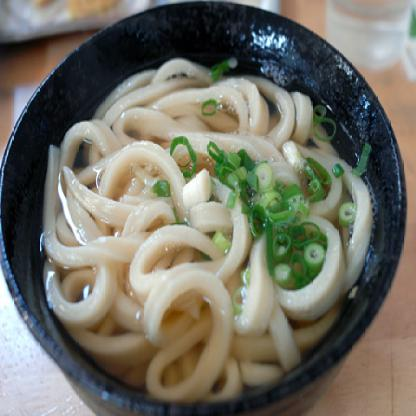Noodles: (44, 58, 376, 402)
